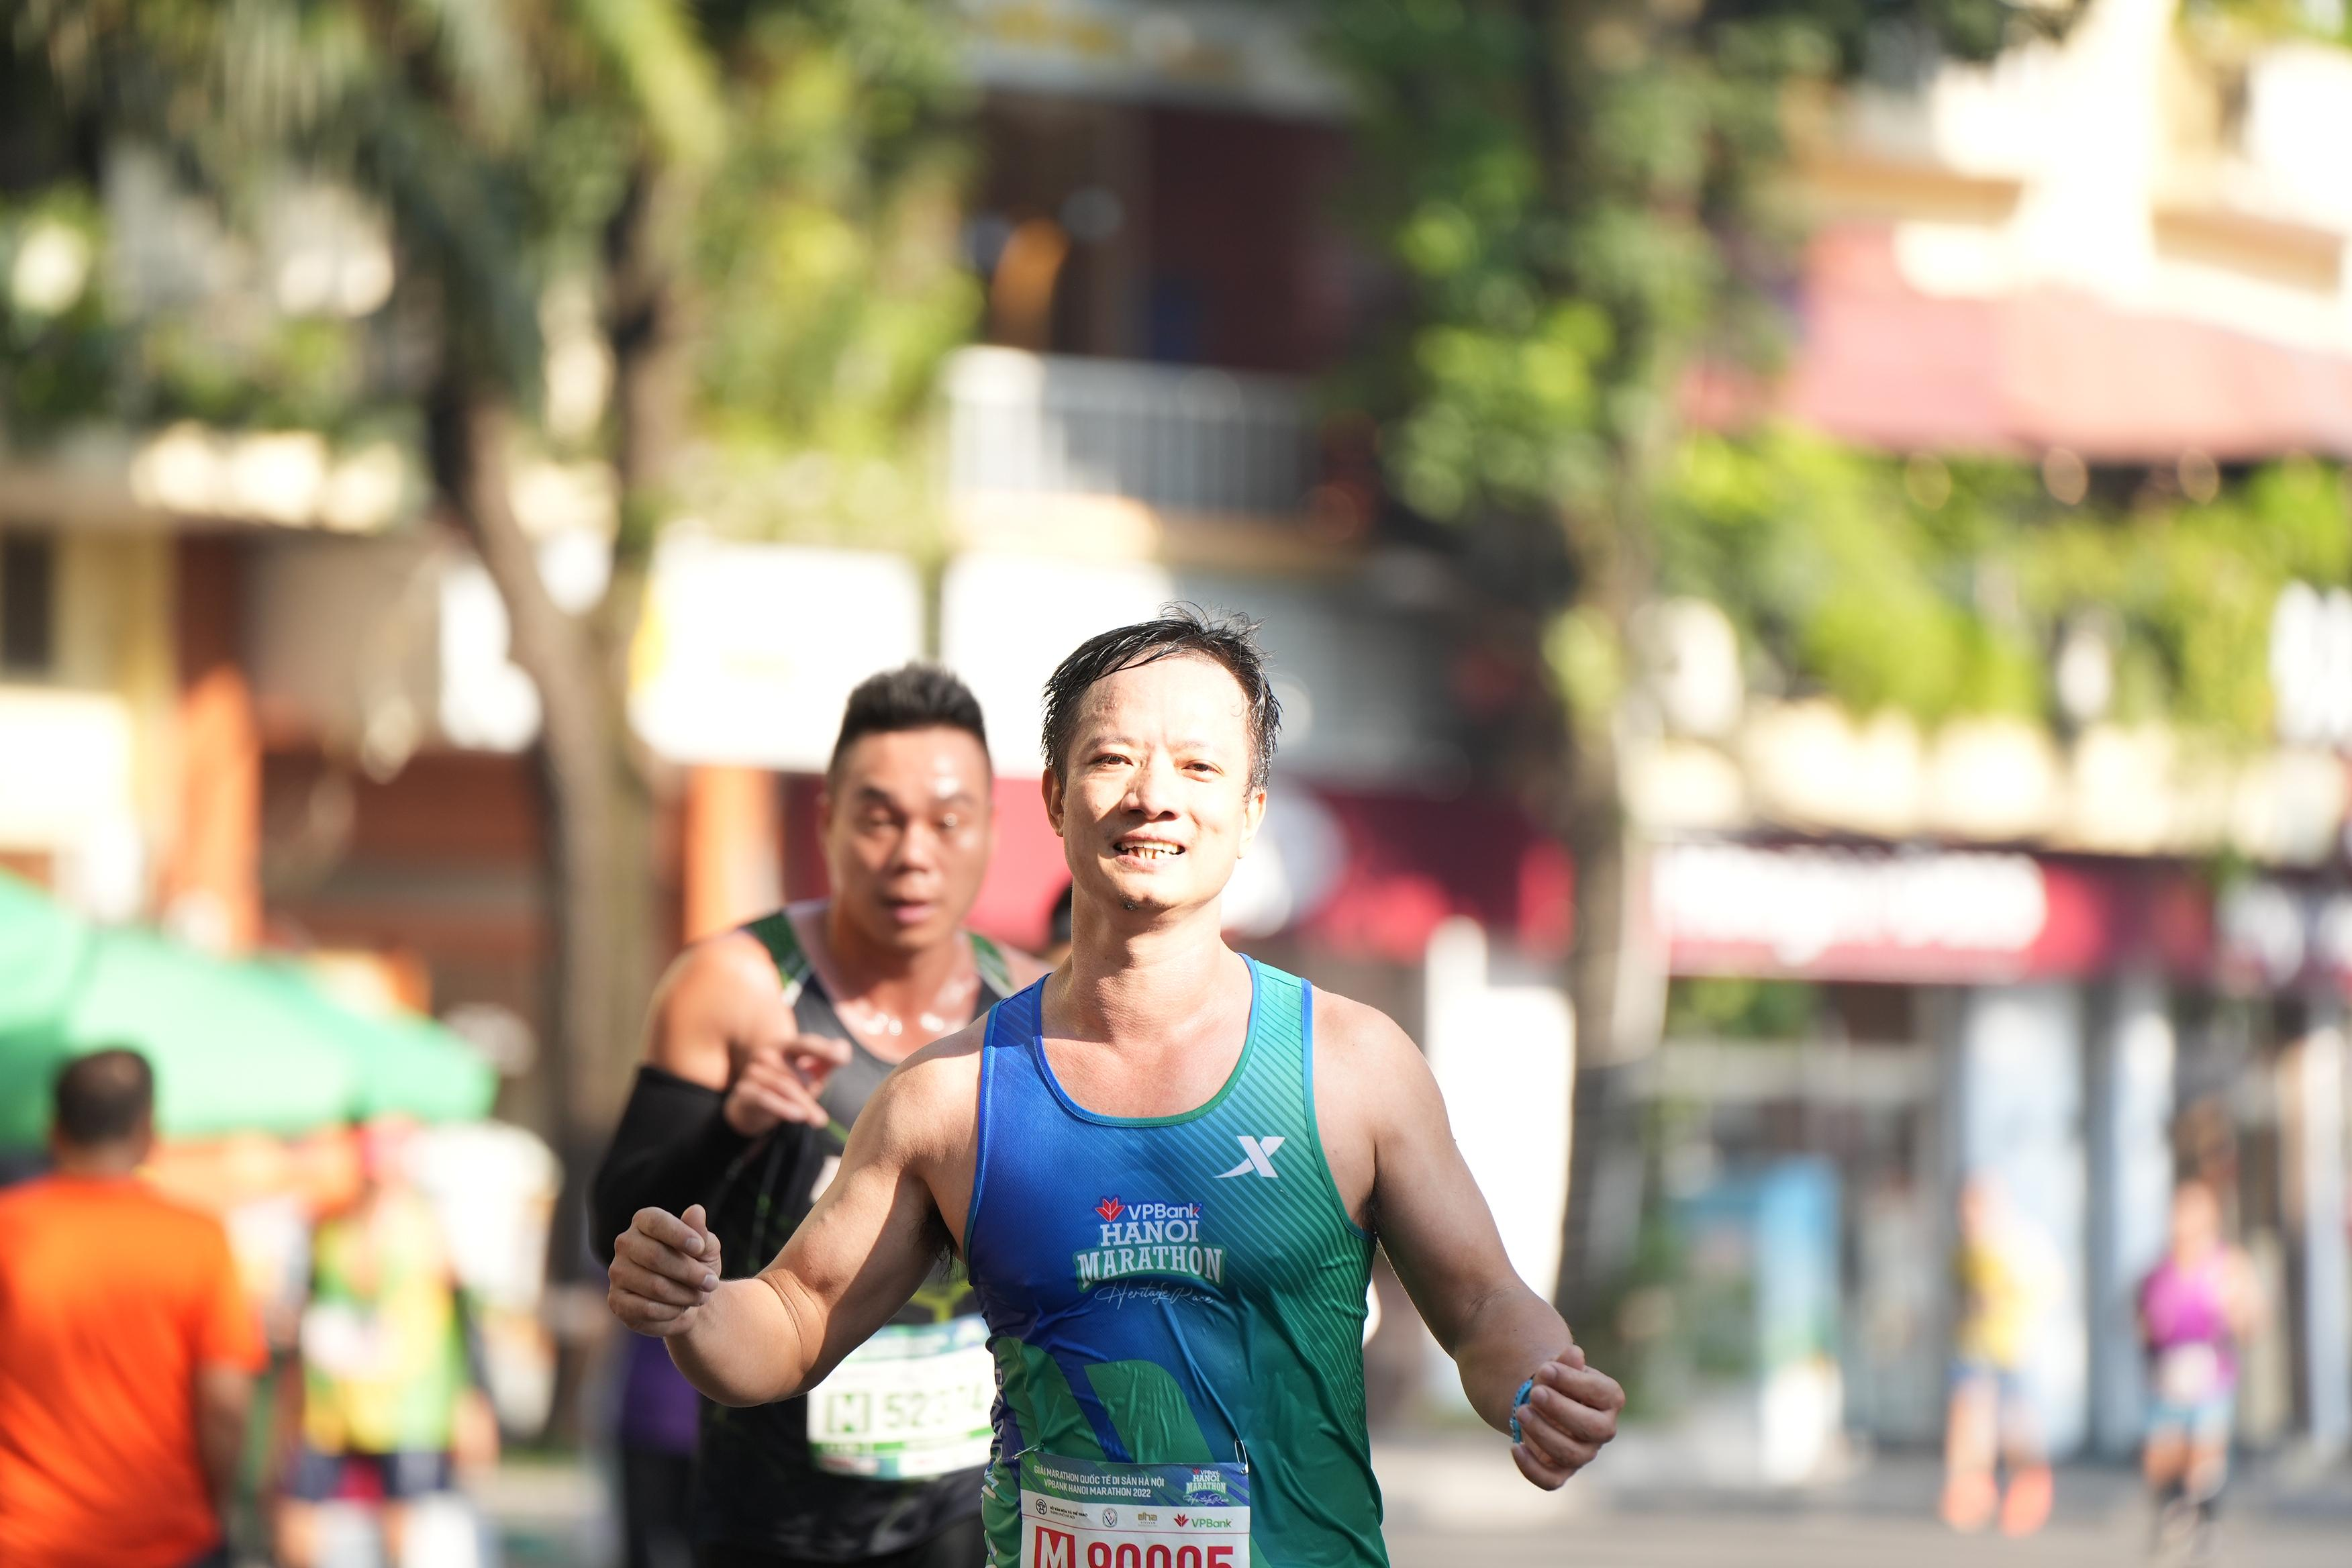bib: (808, 1332, 998, 1475), (1017, 1453, 1248, 1568)
